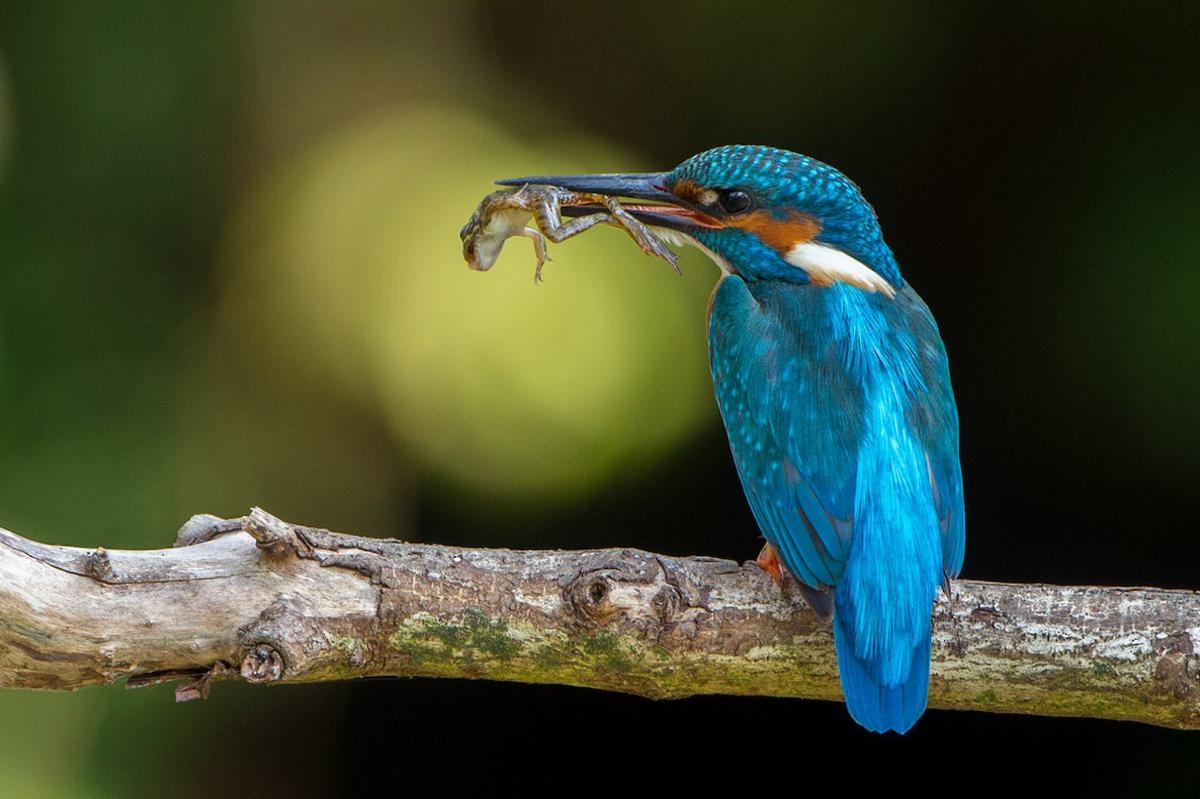kingfisher: (497, 116, 969, 722)
